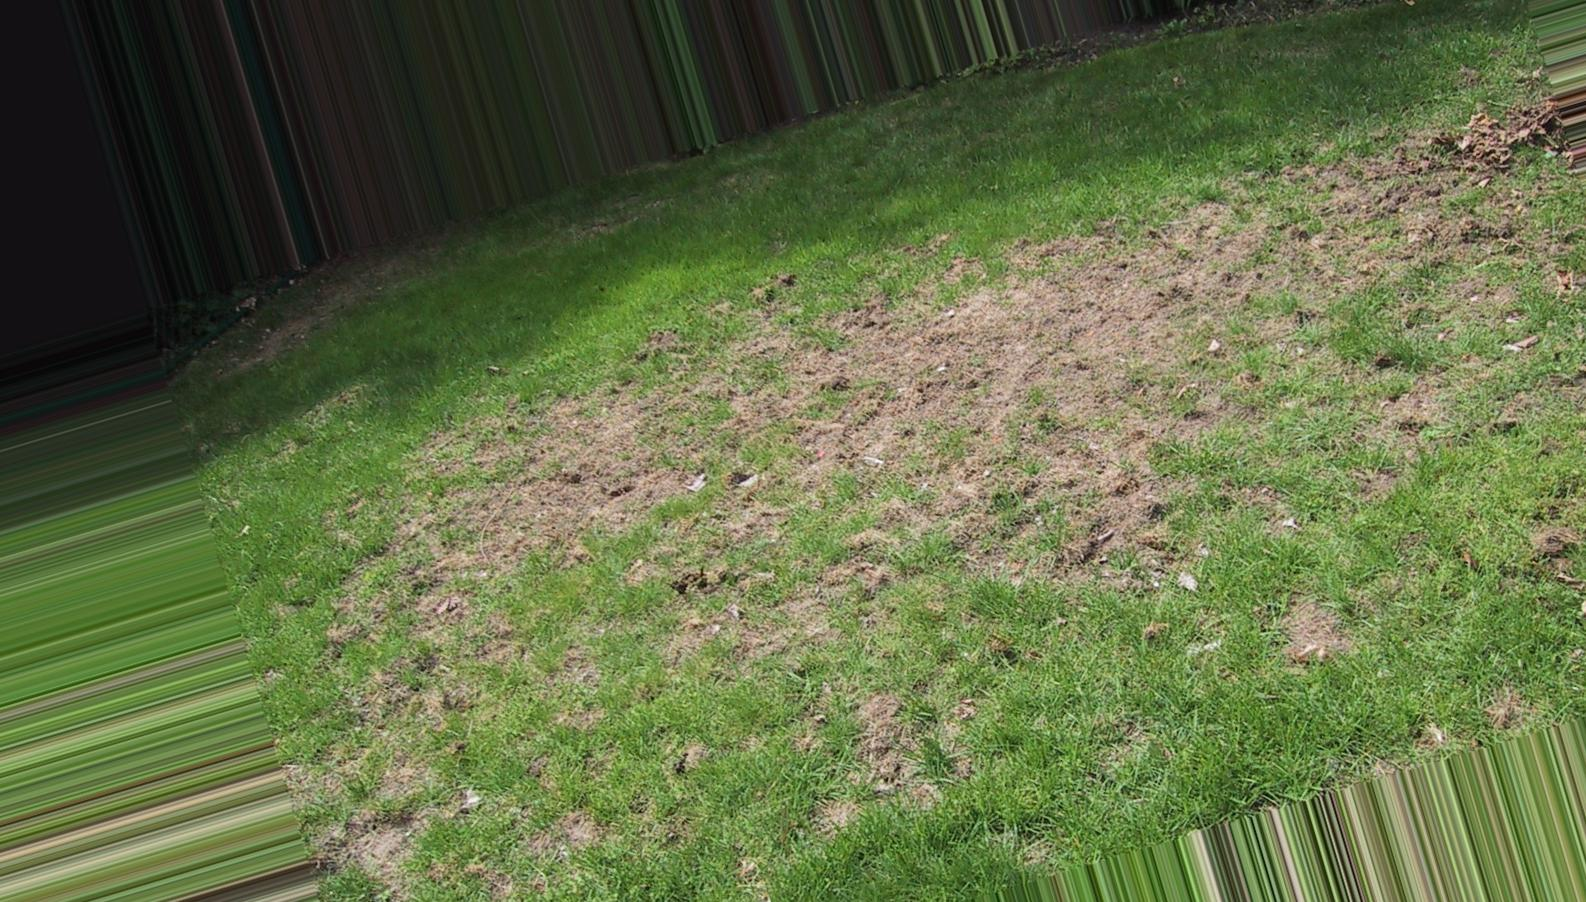patch: (751, 298, 1150, 504), (480, 391, 701, 524), (1191, 188, 1404, 282)
